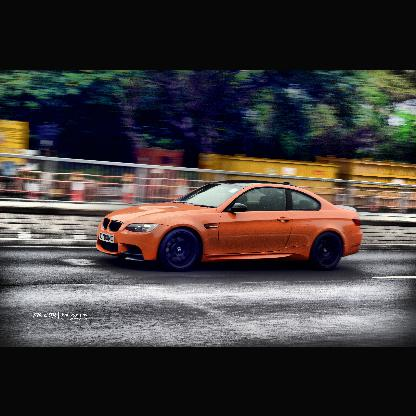BMW M3 Coupe 2012: (98, 182, 365, 272)
